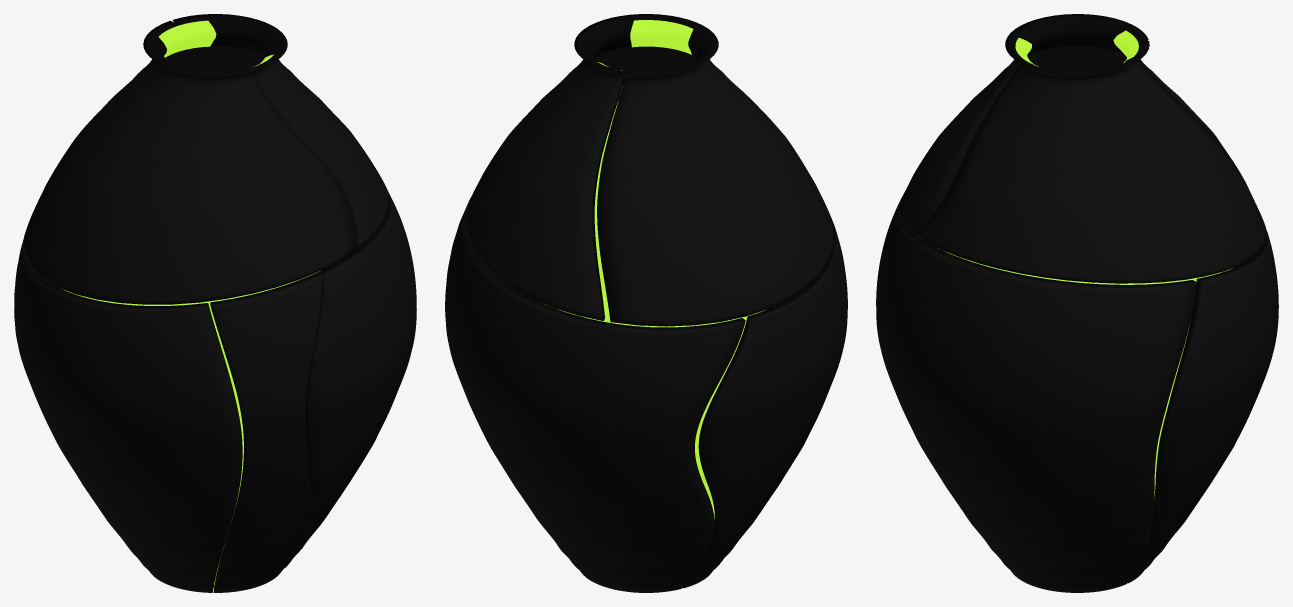
3 views of the same model, side by side, from view 1: azimuth 30°, elevation 25°; view 2: azimuth 150°, elevation 25°; view 3: azimuth 270°, elevation 25° (orthographic).
Visible parts, largest first — view 1: shard_U1, shard_L3, shard_L0, shard_L1, shard_U0, neck_in, seam_U1; view 2: shard_L2, shard_U1, shard_U0, shard_L3, neck_in, seam_U0, seam_U1, shard_L1, seam_L3; view 3: shard_L1, shard_U0, shard_L2, shard_U1, neck_in.
Boxes of the visible parts, x1,y1,x2,y2 form: shard_U1: [22, 20, 357, 304]; shard_L3: [14, 253, 242, 592]; shard_L0: [210, 271, 323, 592]; shard_L1: [262, 191, 416, 584]; shard_U0: [173, 14, 389, 248]; neck_in: [165, 46, 265, 71]; seam_U1: [158, 20, 216, 57]; shard_L2: [445, 239, 745, 592]; shard_U1: [597, 15, 835, 326]; shard_U0: [465, 14, 669, 320]; shard_L3: [682, 221, 847, 588]; neck_in: [595, 46, 697, 100]; seam_U0: [630, 20, 693, 54]; seam_U1: [594, 62, 622, 315]; shard_L1: [445, 198, 470, 303]; seam_L3: [695, 319, 746, 519]; shard_L1: [876, 222, 1196, 592]; shard_U0: [917, 41, 1267, 283]; shard_L2: [1127, 230, 1278, 583]; shard_U1: [898, 14, 1240, 235]; neck_in: [1027, 46, 1126, 71].
Size of the model in its own units: 1.41 by 2 by 1.4.
